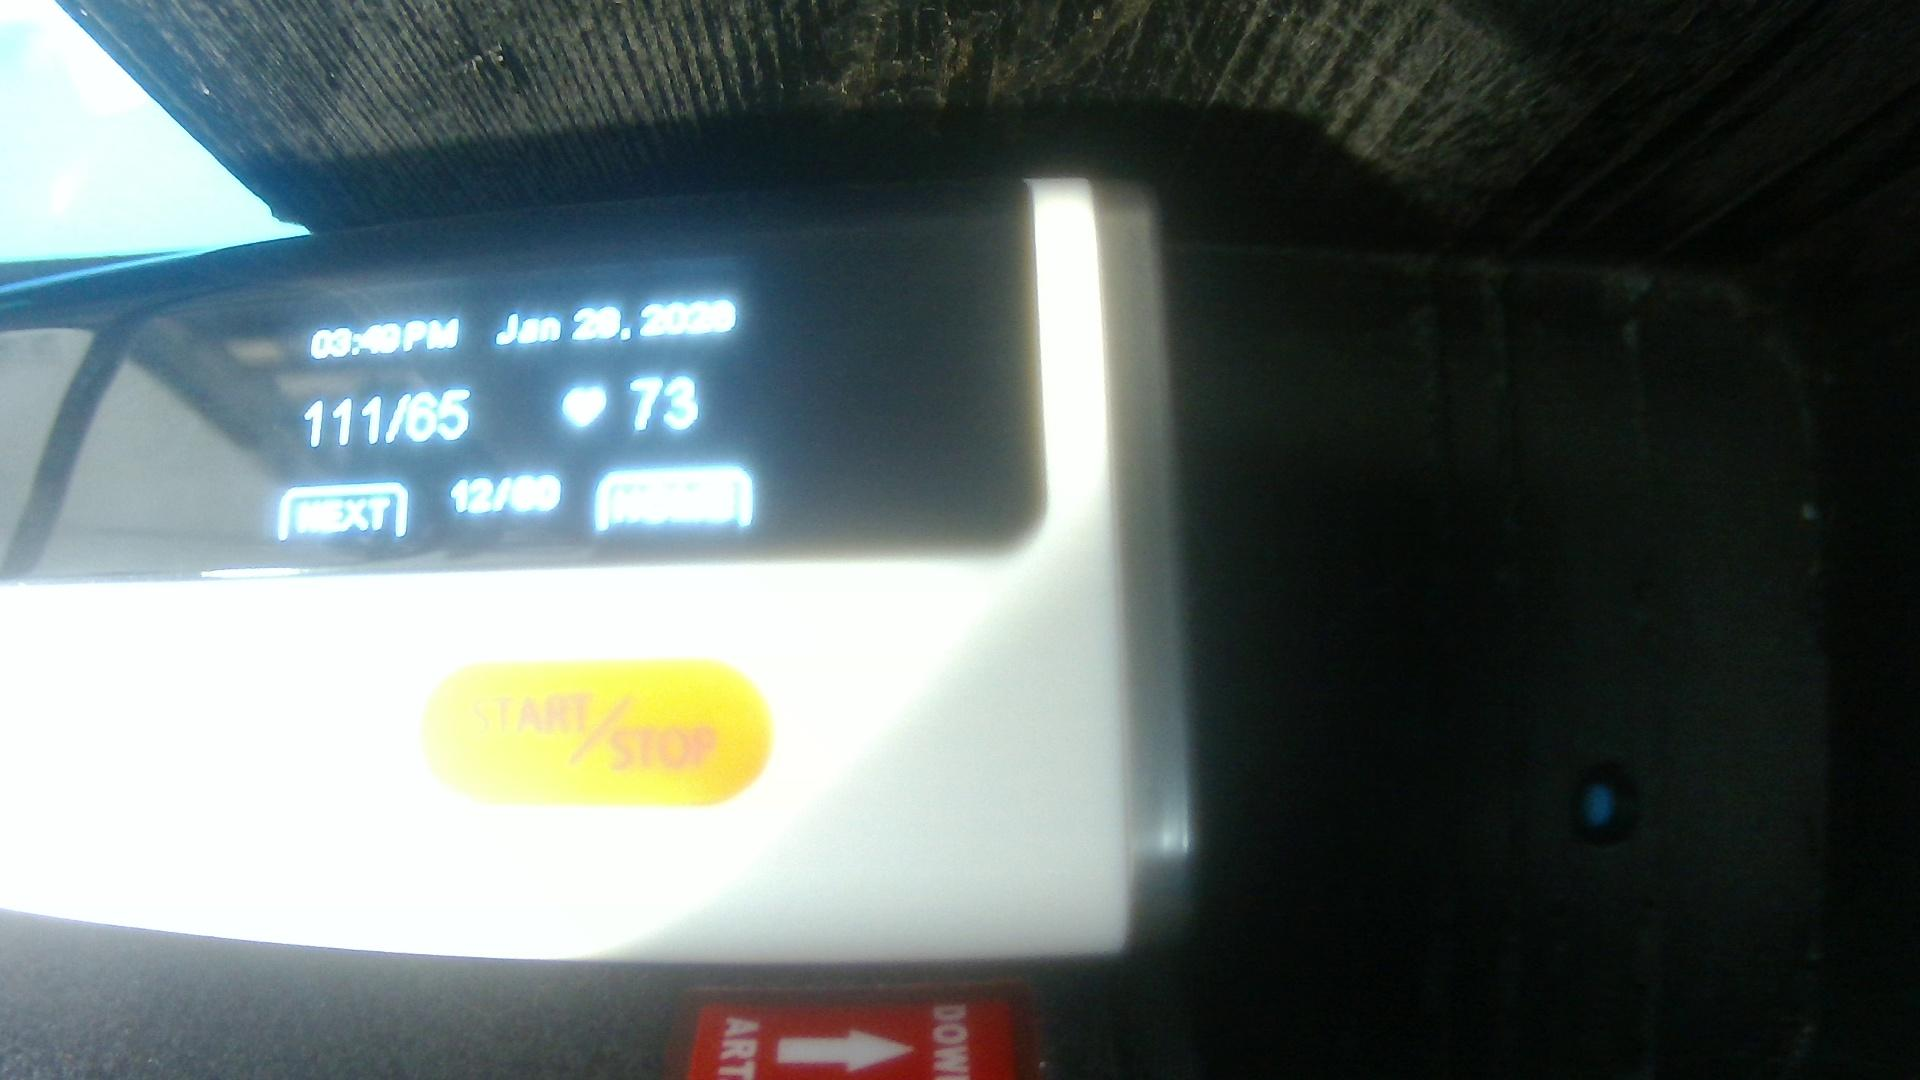DISPLAY: (3, 182, 1030, 578)
